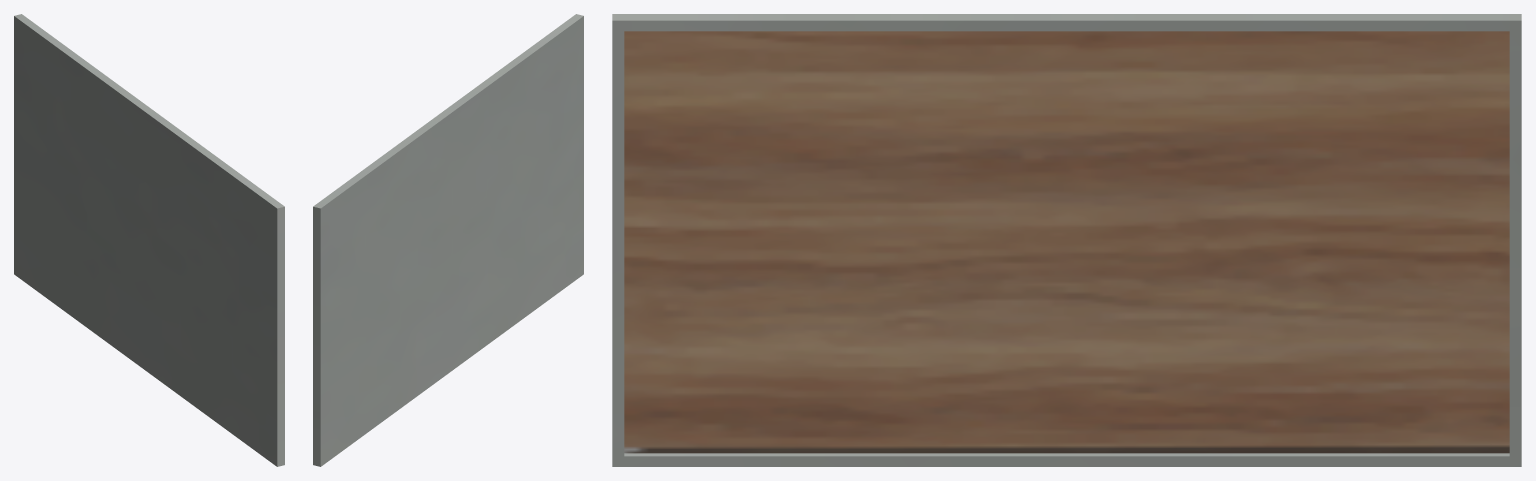
The model's file is Chalkbaord 1.fbx.
3 renders of one model, left to right at view 1: azimuth 30°, elevation 25°; view 2: azimuth 150°, elevation 25°; view 3: azimuth 270°, elevation 25°, orthographic. The views are drawn at different scales.
Parts seen in each view (by area): view 1: CHALKBAORD; view 2: CHALKBAORD; view 3: CHALKBAORD.
Part boxes in pixels (x1,y1,x2,y2): CHALKBAORD: (14,14,284,466); CHALKBAORD: (313,14,583,466); CHALKBAORD: (612,14,1521,466).
Size of the model in its own units: 0.349 by 11.08 by 20.44.
Materials: 1 (1 with a texture image).
